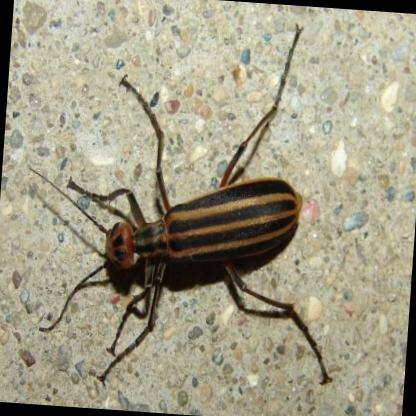blister beetle: (68, 76, 305, 310)
